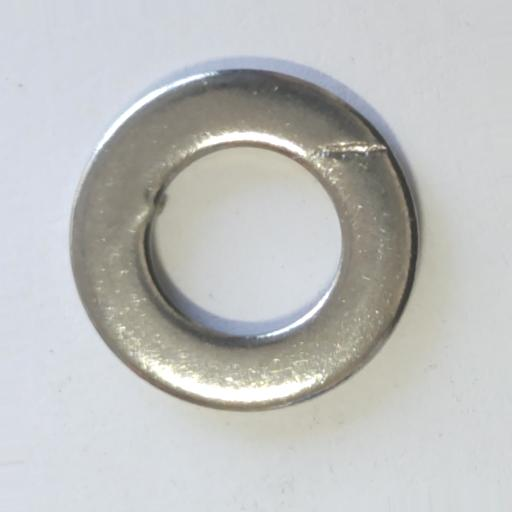scratch: (313, 140, 388, 158)
